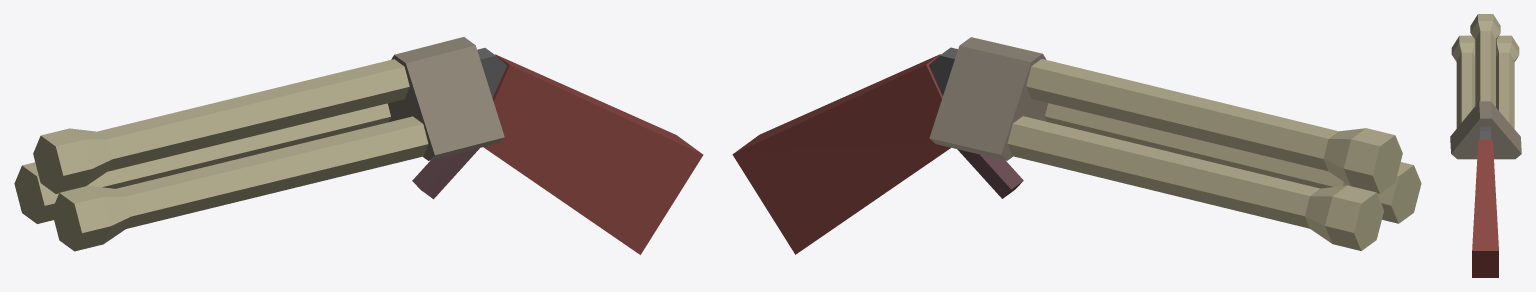
File: MassiveBullet_Pistol_4.dae
The picture shows the model from 3 angles, left to right: view 1: azimuth 30°, elevation 25°; view 2: azimuth 150°, elevation 25°; view 3: azimuth 270°, elevation 25°; orthographic projection. The views are drawn at different scales.
Visible parts, largest first — view 1: Cube_002, Cylinder_001, Cylinder, Cube, Cylinder_002, Cube_003, Cube_001; view 2: Cube_002, Cylinder_002, Cylinder, Cube, Cylinder_001, Cube_003, Cube_001; view 3: Cube_002, Cube, Cylinder, Cylinder_001, Cylinder_002, Cube_001.
Boxes of the visible parts, <box> form: Cube_002: <box>483,54,703,254</box>; Cylinder_001: <box>52,116,428,251</box>; Cylinder: <box>33,59,409,193</box>; Cube: <box>387,37,504,160</box>; Cylinder_002: <box>14,103,390,223</box>; Cube_003: <box>412,148,479,199</box>; Cube_001: <box>477,48,506,97</box>; Cube_002: <box>732,54,950,254</box>; Cylinder_002: <box>1007,116,1383,250</box>; Cylinder: <box>1026,59,1402,193</box>; Cube: <box>929,37,1048,160</box>; Cylinder_001: <box>1045,103,1421,223</box>; Cube_003: <box>957,149,1023,198</box>; Cube_001: <box>929,47,957,96</box>; Cube_002: <box>1472,139,1498,277</box>; Cube: <box>1450,101,1521,159</box>; Cylinder: <box>1470,14,1500,106</box>; Cylinder_001: <box>1451,35,1475,128</box>; Cylinder_002: <box>1496,35,1519,128</box>; Cube_001: <box>1480,126,1490,139</box>.
Size of the model in its own units: 17.86 by 3.45 by 6.53.
